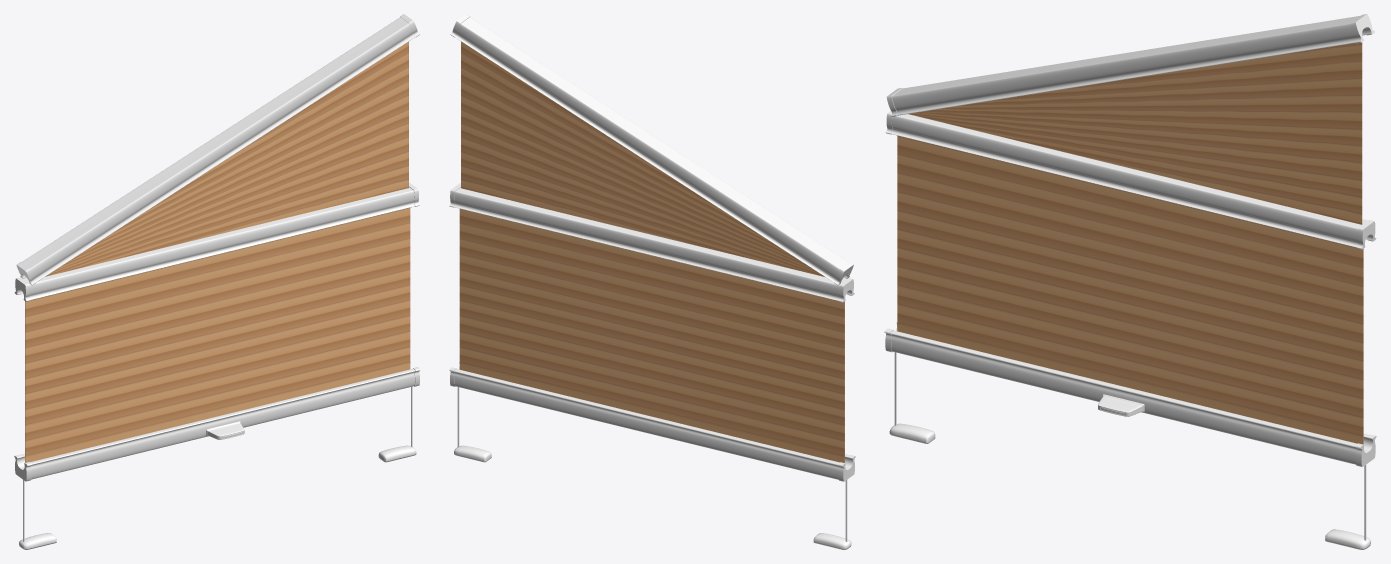
3 renders of one model, left to right at view 1: azimuth 30°, elevation 25°; view 2: azimuth 150°, elevation 25°; view 3: azimuth 330°, elevation 25°, orthographic. The views are drawn at different scales.
Parts seen in each view (by area): view 1: Plane, Plane.001, BezierCurve.029, BezierCurve.048, BezierCurve.005, Halterung; view 2: Plane, Plane.001, BezierCurve.029, BezierCurve.048, BezierCurve.005; view 3: Plane, Plane.001, BezierCurve.029, BezierCurve.048, BezierCurve.005, Halterung, Cube.002, Cube.006.
Part boxes in pixels (x1,y1,x2,y2): Plane: [25, 207, 410, 462]; Plane.001: [45, 41, 408, 276]; BezierCurve.029: [21, 17, 415, 282]; BezierCurve.048: [21, 187, 414, 299]; BezierCurve.005: [20, 369, 415, 479]; Halterung: [205, 421, 244, 439]; Plane: [459, 208, 844, 462]; Plane.001: [461, 41, 825, 277]; BezierCurve.029: [455, 17, 848, 282]; BezierCurve.048: [454, 187, 847, 300]; BezierCurve.005: [454, 369, 849, 479]; Plane: [897, 135, 1363, 444]; Plane.001: [908, 42, 1362, 224]; BezierCurve.029: [892, 16, 1366, 115]; BezierCurve.048: [891, 114, 1368, 247]; BezierCurve.005: [890, 330, 1368, 464]; Halterung: [1098, 394, 1144, 416]; Cube.002: [889, 423, 935, 443]; Cube.006: [1325, 529, 1370, 549].
Size of the model in its own units: 1.2 by 1.27 by 0.1143.
Materials: 2 (1 with a texture image).
